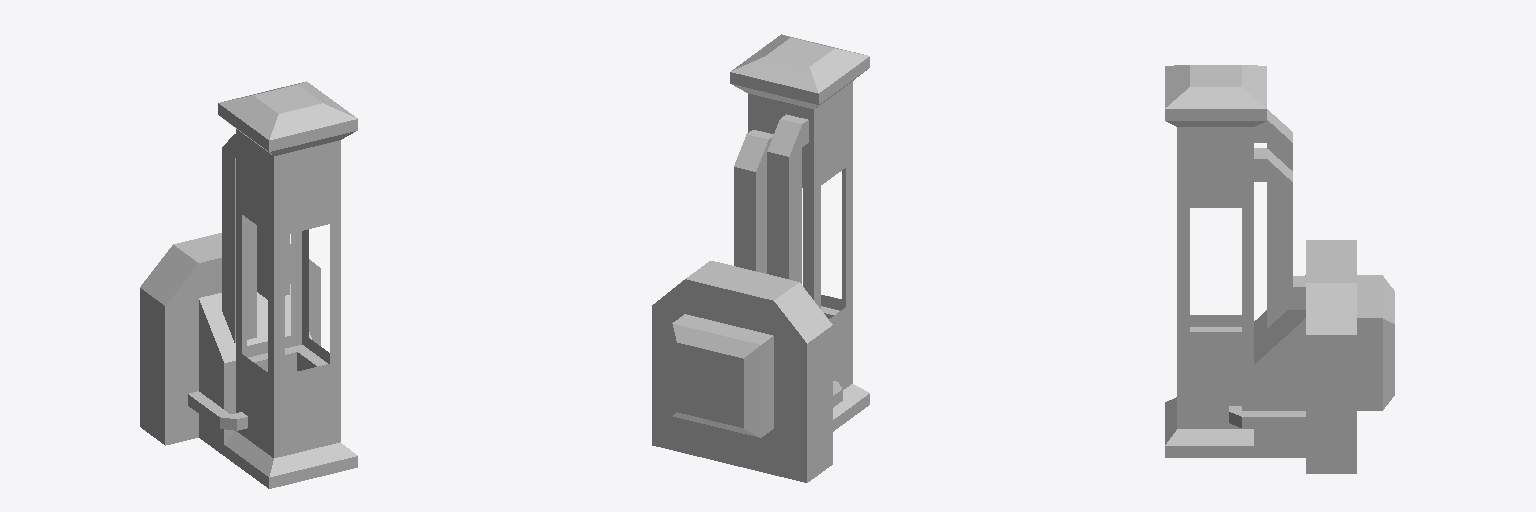
File: actuator_water_body.obj
The picture shows the model from 3 angles: view 1: azimuth 30°, elevation 25°; view 2: azimuth 150°, elevation 25°; view 3: azimuth 270°, elevation 25°; orthographic projection.
Visible parts, largest first — view 1: DELUGE_PURIFIER_BODY_Cube.028; view 2: DELUGE_PURIFIER_BODY_Cube.028; view 3: DELUGE_PURIFIER_BODY_Cube.028.
Boxes of the visible parts, box(x1,y1,x2,y2) form: DELUGE_PURIFIER_BODY_Cube.028: box(140, 81, 357, 488); DELUGE_PURIFIER_BODY_Cube.028: box(652, 34, 869, 482); DELUGE_PURIFIER_BODY_Cube.028: box(1165, 65, 1394, 473).
Bounding box in the file's own units: 0.875 × 1.94 × 1.12.